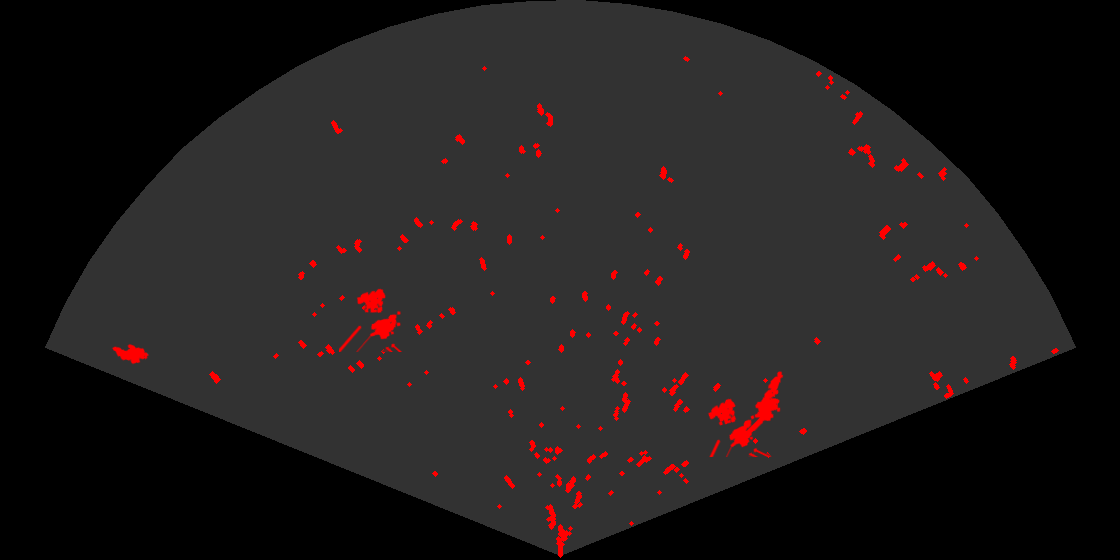AUV: (110, 342, 151, 366)
cage: (339, 287, 404, 352), (706, 397, 773, 457)
frogman: (745, 370, 785, 431)
